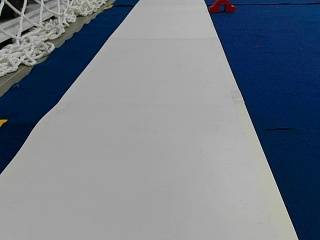bridge: (209, 0, 234, 11)
